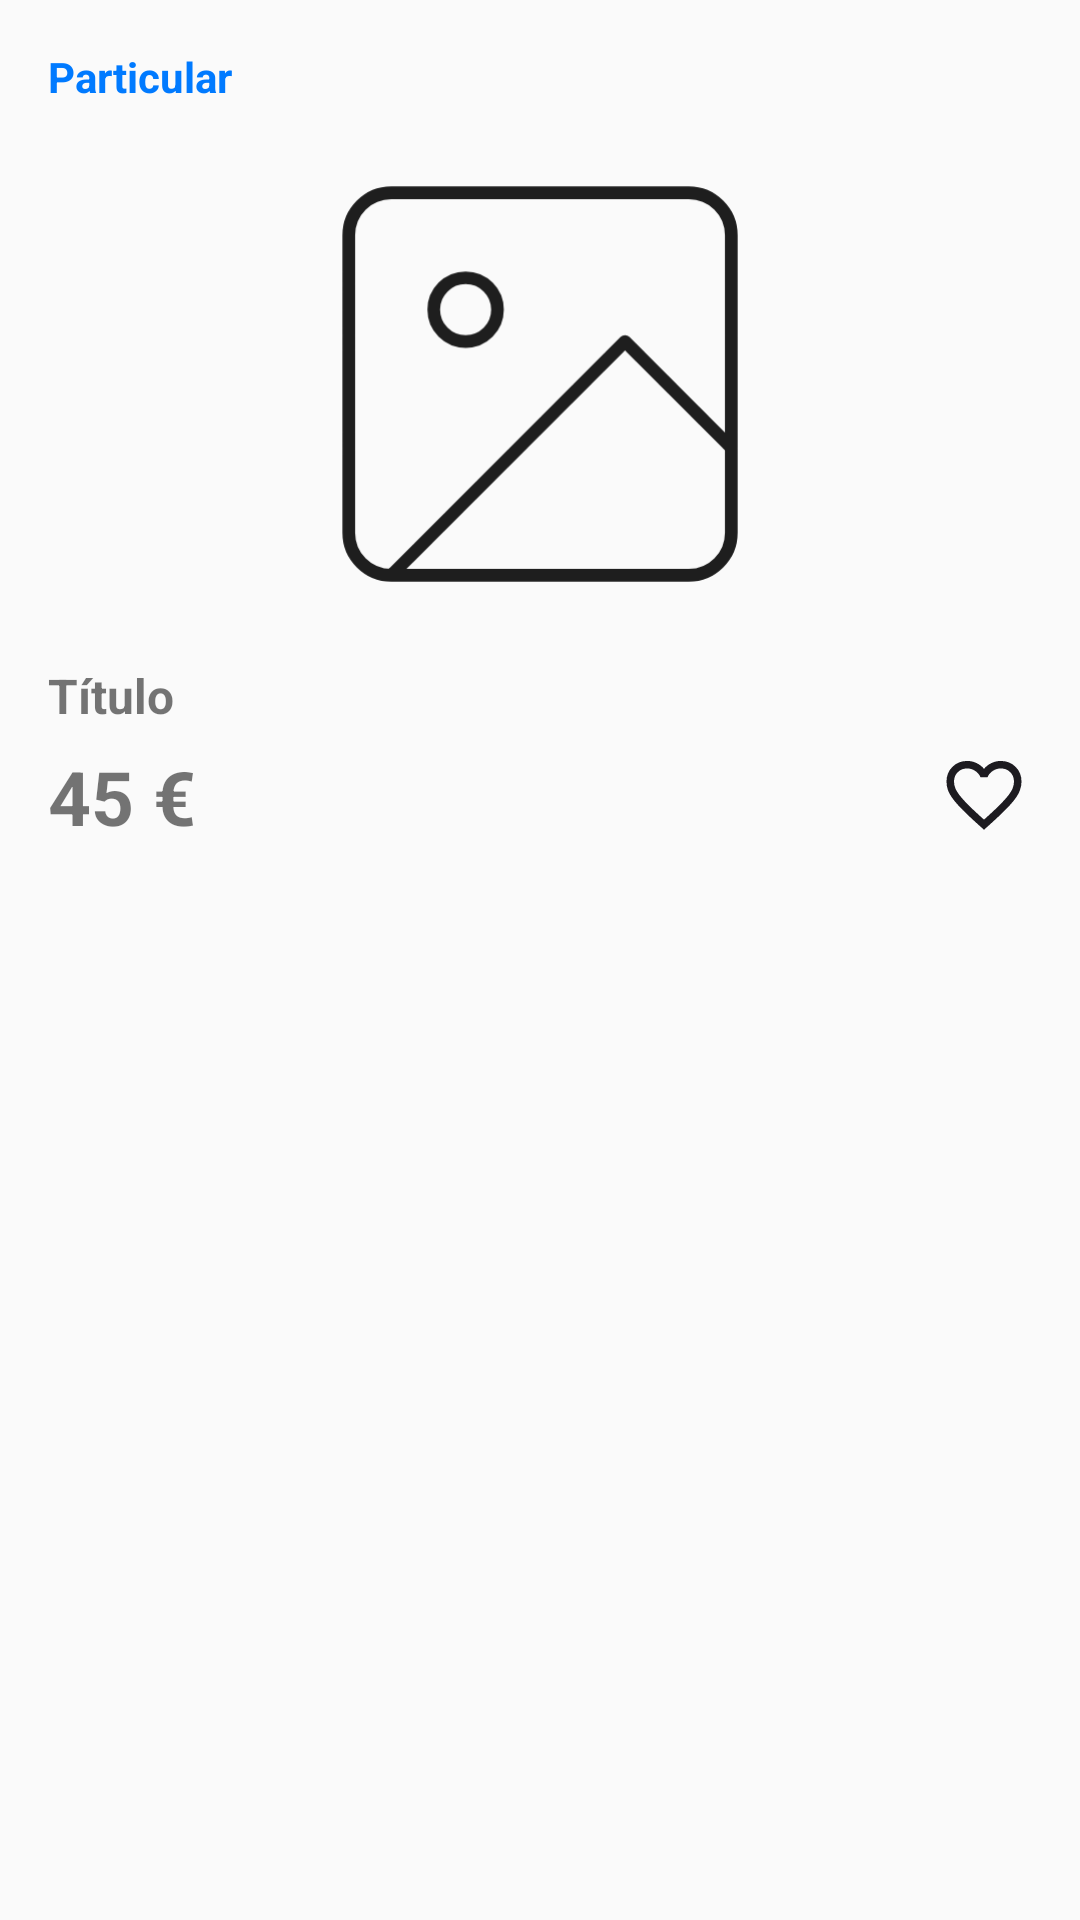

Point at icon controls on the screen. Image size 1080 × 1920, points as (x=x, y=y).
like: (x=984, y=795)
